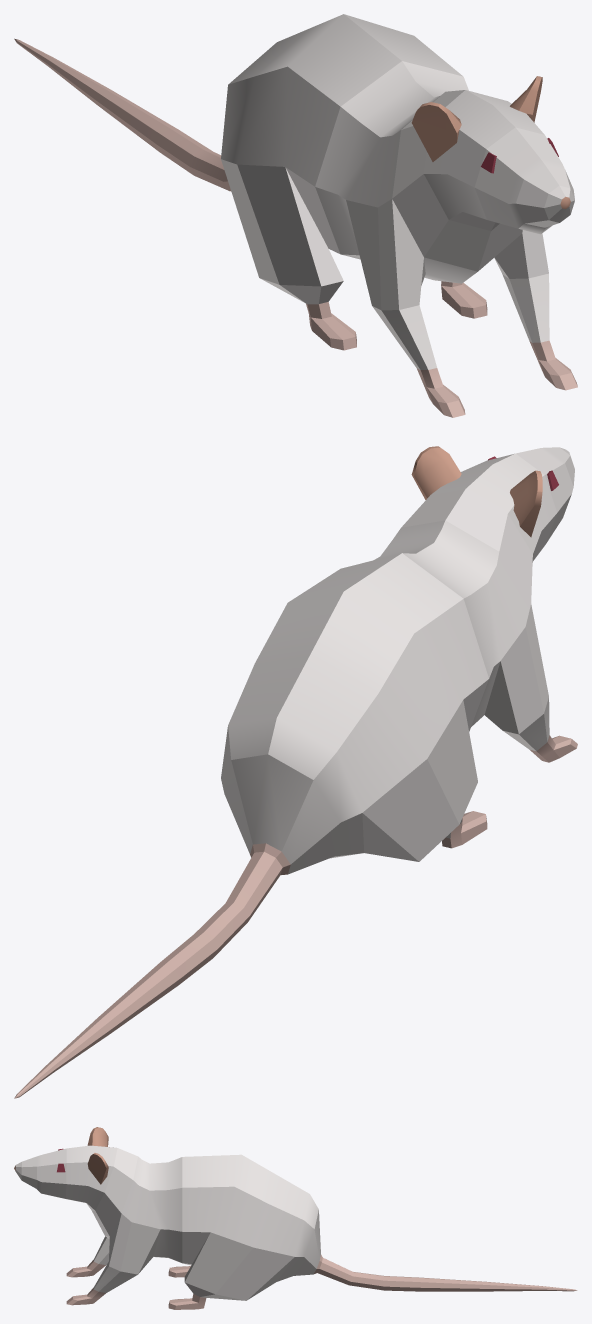
The model's file is rat#0001.fbx.
The picture shows the model from 3 angles, top to bottom: view 1: azimuth 30°, elevation 25°; view 2: azimuth 150°, elevation 25°; view 3: azimuth 270°, elevation 25°; orthographic projection. The views are drawn at different scales.
Visible parts, largest first — view 1: Mesh_Rat; view 2: Mesh_Rat; view 3: Mesh_Rat.
Part boxes in pixels (box(x1,y1,x2,y2)): Mesh_Rat: box(14, 14, 577, 417); Mesh_Rat: box(14, 446, 577, 1098); Mesh_Rat: box(14, 1127, 577, 1309).
Bounding box in the file's own units: 2432 × 3615 × 12262.
